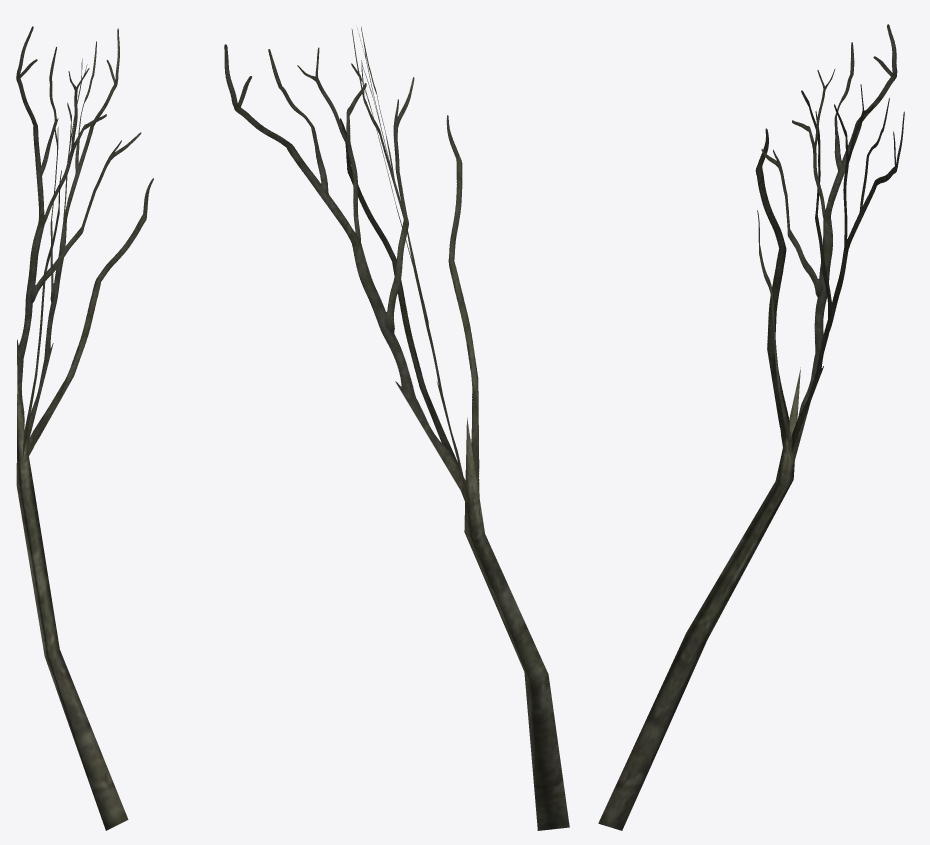
The model's file is TI_Tree_Bald_Branch_02.fbx.
3 renders of one model, left to right at view 1: azimuth 30°, elevation 25°; view 2: azimuth 150°, elevation 25°; view 3: azimuth 270°, elevation 25°, orthographic. The views are drawn at different scales.
Visible parts, largest first — view 1: TI_Tree_Bald_Branch_02; view 2: TI_Tree_Bald_Branch_02; view 3: TI_Tree_Bald_Branch_02.
Boxes of the visible parts, left/top/right/bottom form: TI_Tree_Bald_Branch_02: left=16, top=26, right=153, bottom=830; TI_Tree_Bald_Branch_02: left=224, top=26, right=569, bottom=830; TI_Tree_Bald_Branch_02: left=598, top=24, right=904, bottom=830.
Size of the model in its own units: 0.7398 by 2.77 by 0.9604.
